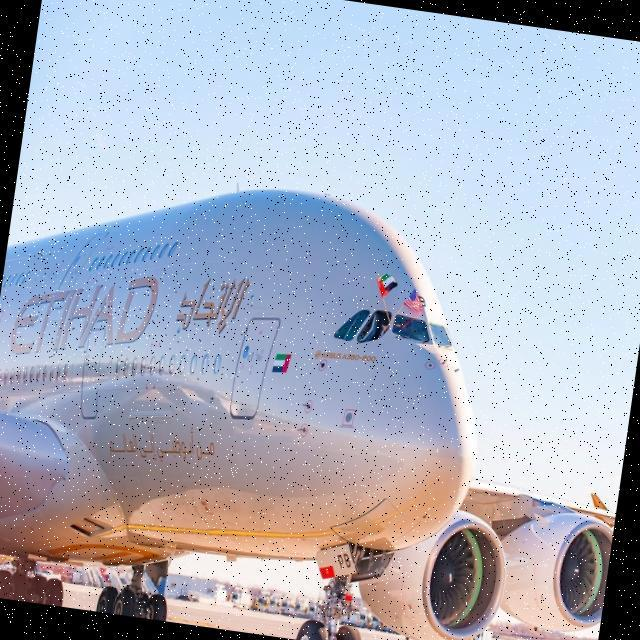Etihad Airways: (9, 246, 258, 386)
